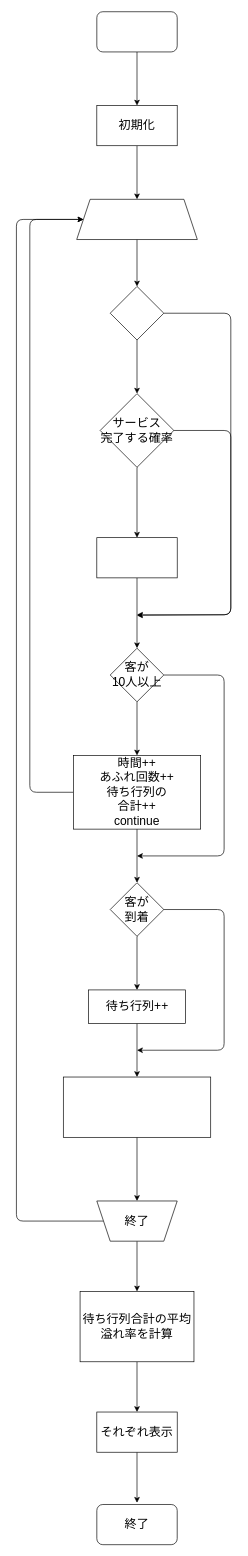
The diagram is 248 pixels wide and 1556 high, and some of its shapes have lost their labels. Here are the shapes that lost their labels. From the top down, the centre of each, then its label:
(x=136, y=31): 開始
(x=136, y=219): シミュレート回数
(x=137, y=313): 客が 存在
(x=136, y=557): 待ち行列--
(x=137, y=1106): シミュレーション回数++ 待ち行列合計に現在の待ち行列を+
